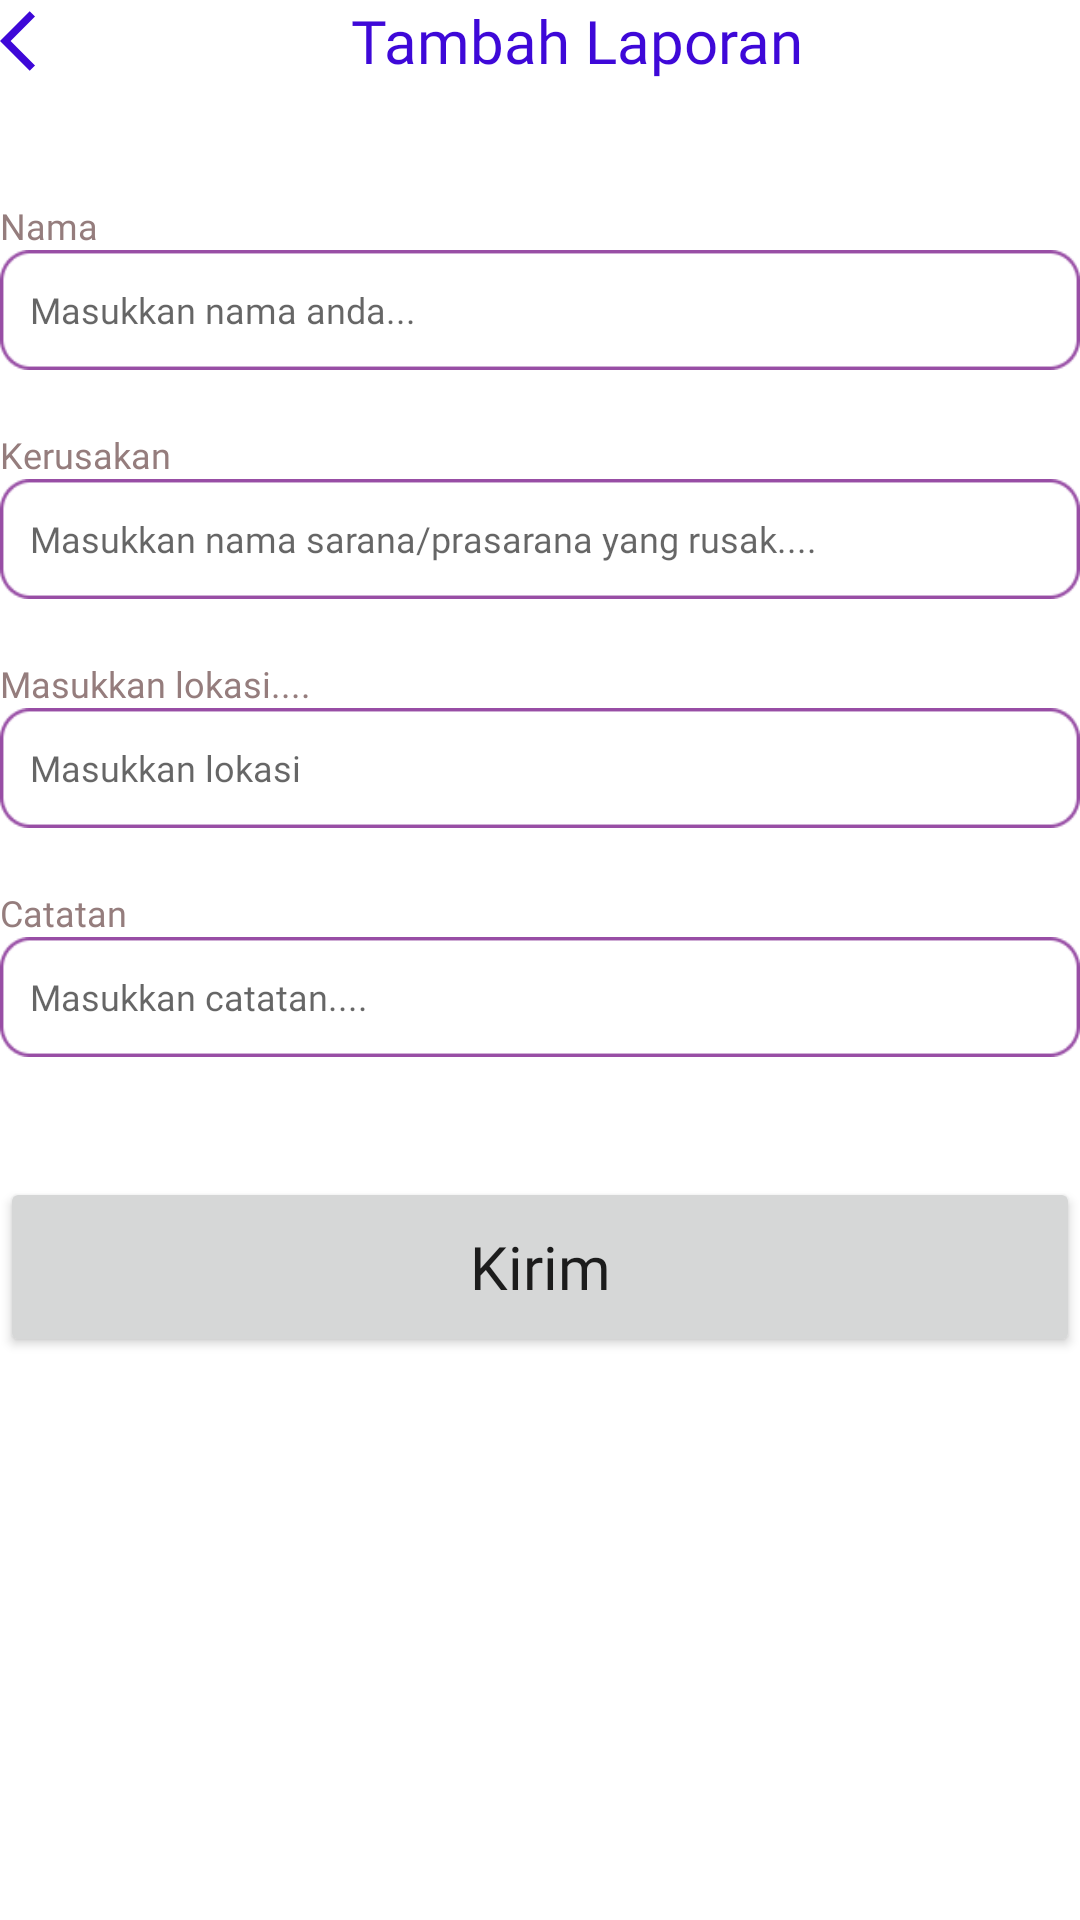

Icon bounding boxes for this 1080w x 1920h phone screenshot, format bbox=(x1, y1, x2, y2):
back: bbox=(0, 11, 35, 71)
